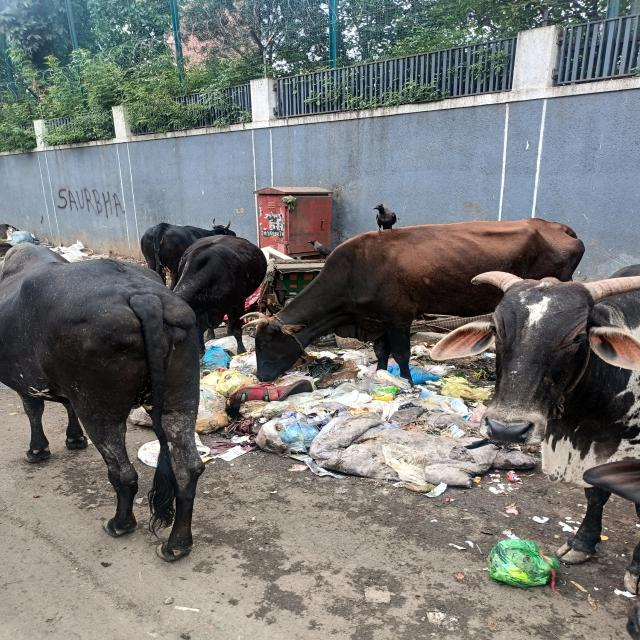garbage: (274, 350, 512, 489), (199, 335, 277, 446)
